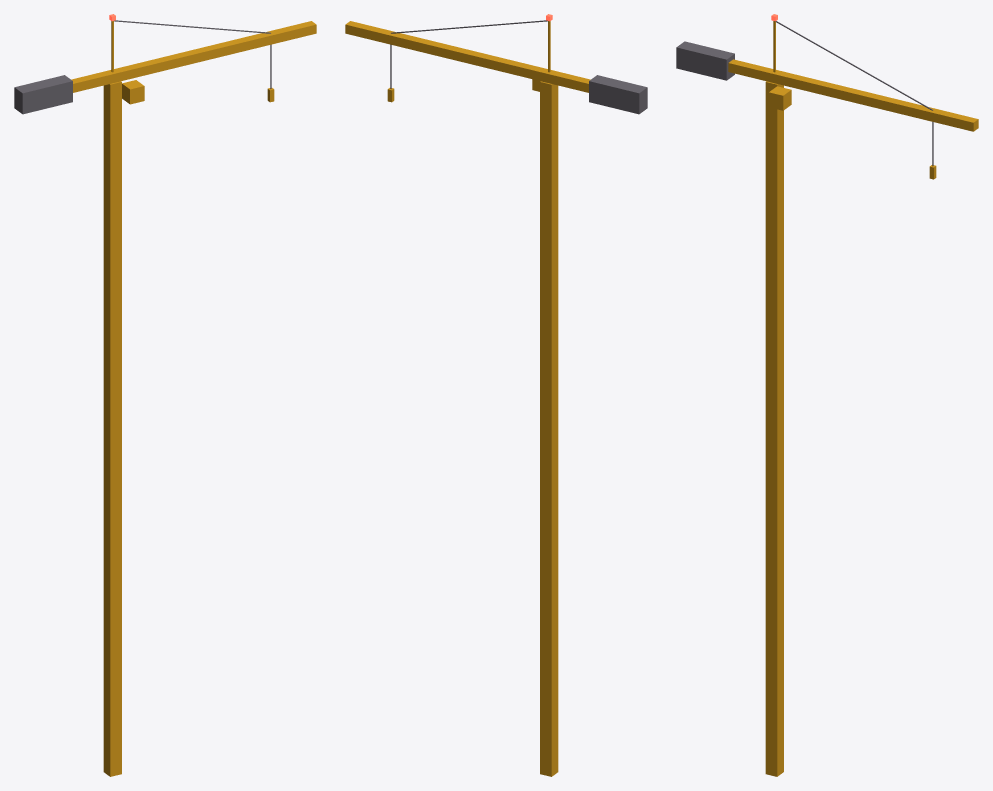
File: welt_kran.glb
3 views of the same model, side by side, from view 1: azimuth 30°, elevation 25°; view 2: azimuth 150°, elevation 25°; view 3: azimuth 330°, elevation 25° (orthographic).
Parts seen in each view (by area): view 1: welt_kran; view 2: welt_kran; view 3: welt_kran.
Part boxes in pixels (x1,y1,x2,y2): welt_kran: [14, 14, 316, 776]; welt_kran: [345, 14, 647, 776]; welt_kran: [676, 14, 978, 776].
Bounding box in the file's own units: 20.55 × 50.35 × 1.9.
